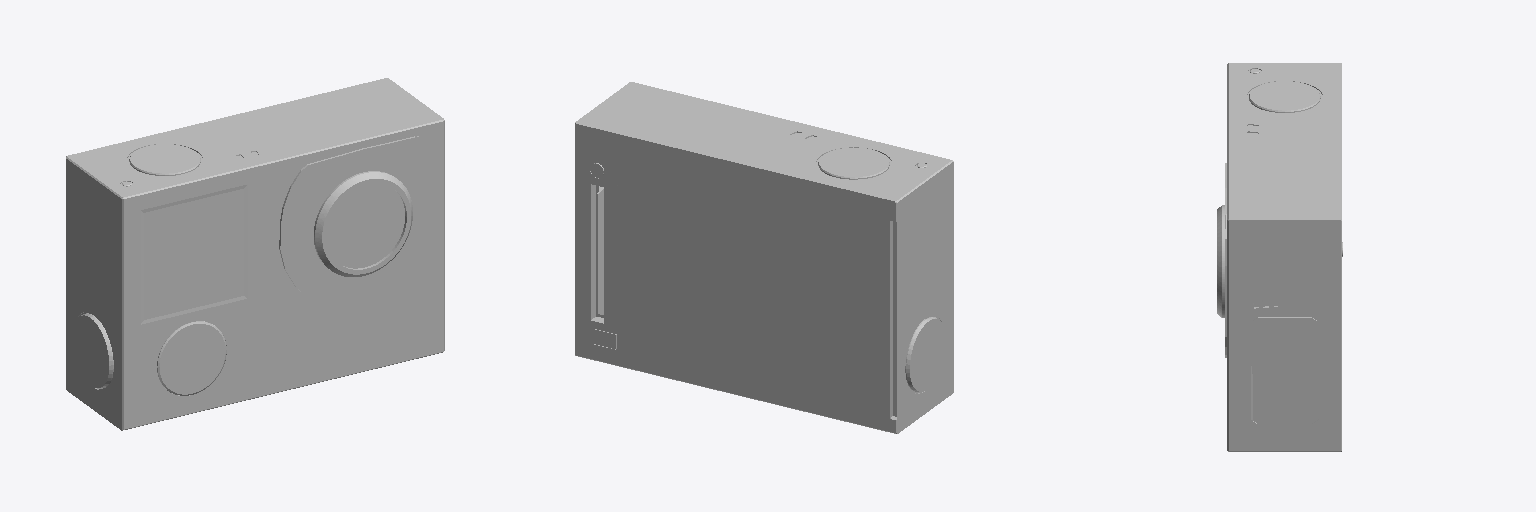
The model's file is hero 4.obj.
3 renders of one model, left to right at view 1: azimuth 30°, elevation 25°; view 2: azimuth 150°, elevation 25°; view 3: azimuth 270°, elevation 25°, orthographic.
Visible parts, largest first — view 1: Box001, Cylinder003; view 2: Box001; view 3: Box001, Cylinder003.
Part boxes in pixels (x1,y1,x2,y2): Box001: (66, 78, 444, 430); Cylinder003: (314, 171, 412, 276); Box001: (575, 82, 953, 433); Box001: (1225, 63, 1342, 451); Cylinder003: (1217, 205, 1224, 317).
Bounding box in the file's own units: 76.7 × 52.65 × 25.75.